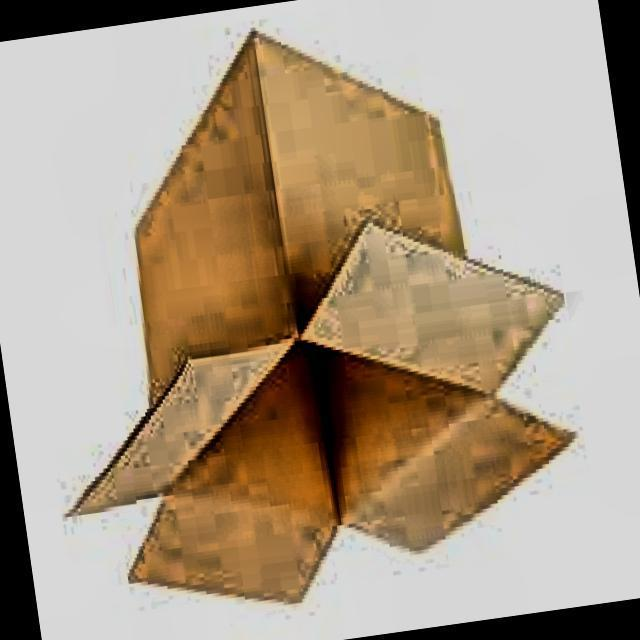cardboard: (4, 0, 604, 640)
